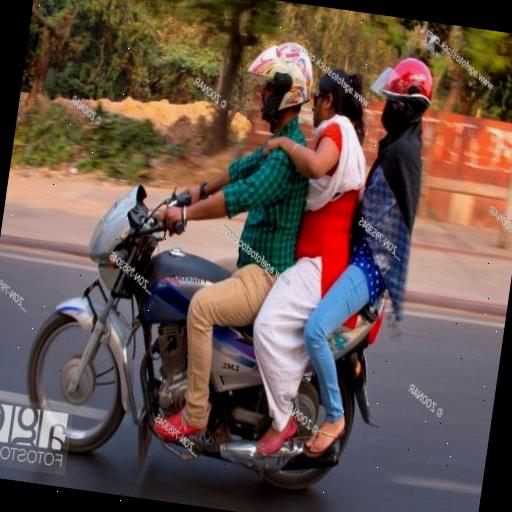helmet: (234, 22, 334, 136)
triple riding: (19, 0, 452, 511)
